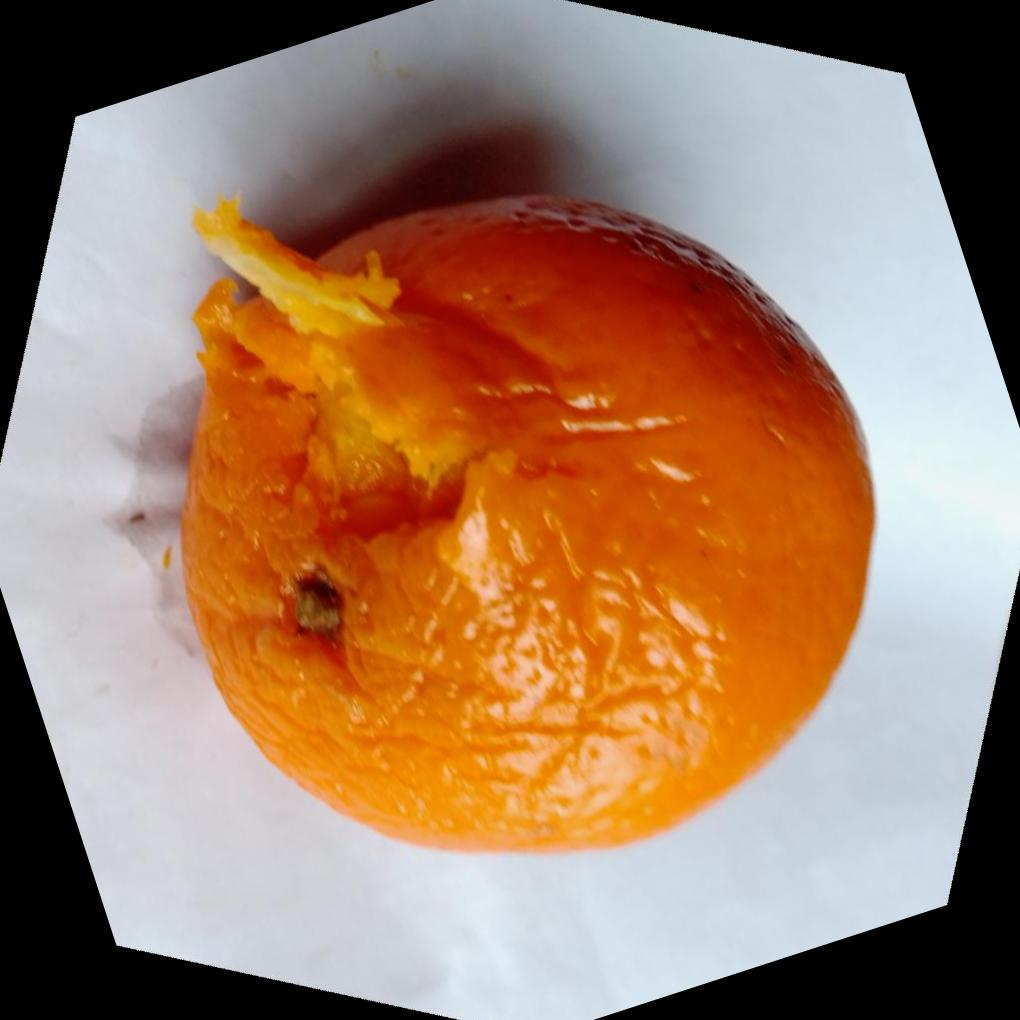FreshOrange: (174, 187, 877, 854)
